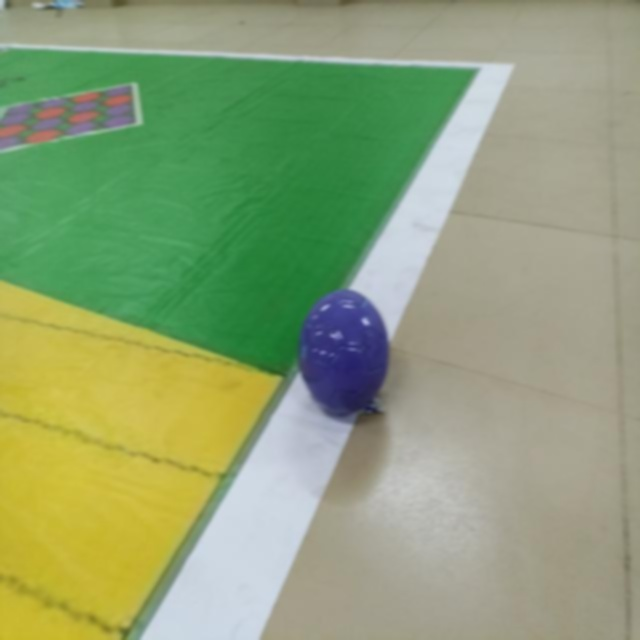purple_ball: (301, 293, 388, 412)
